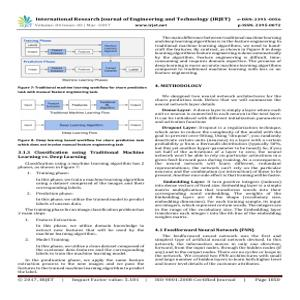diagram: (16, 33, 145, 85), (19, 93, 145, 138)
image: (13, 15, 36, 29)
text: (154, 34, 284, 268), (17, 138, 146, 275), (37, 16, 282, 30)
